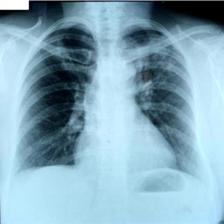tuberculosis: (12, 19, 205, 187)
